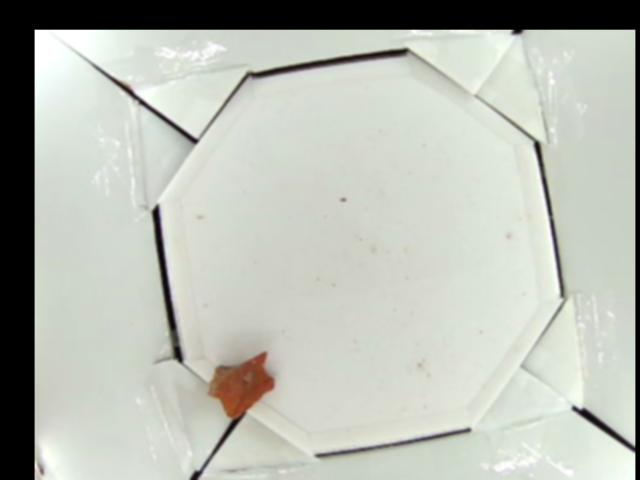Brisk: (208, 349, 275, 421)
